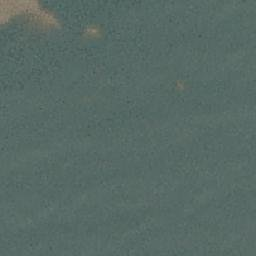debris: (1, 1, 70, 33), (85, 25, 102, 40)
